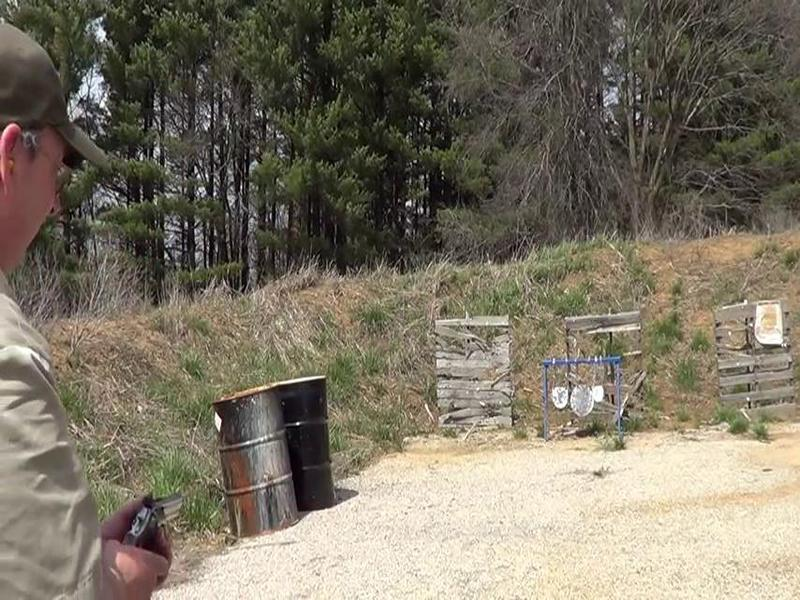Revolver: (107, 470, 206, 579)
